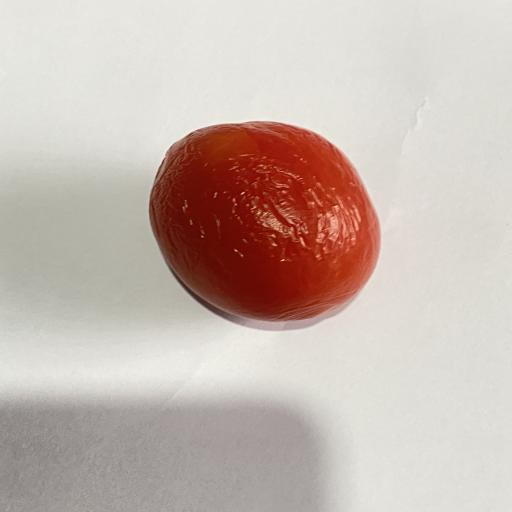spoiled: (150, 122, 380, 320)
